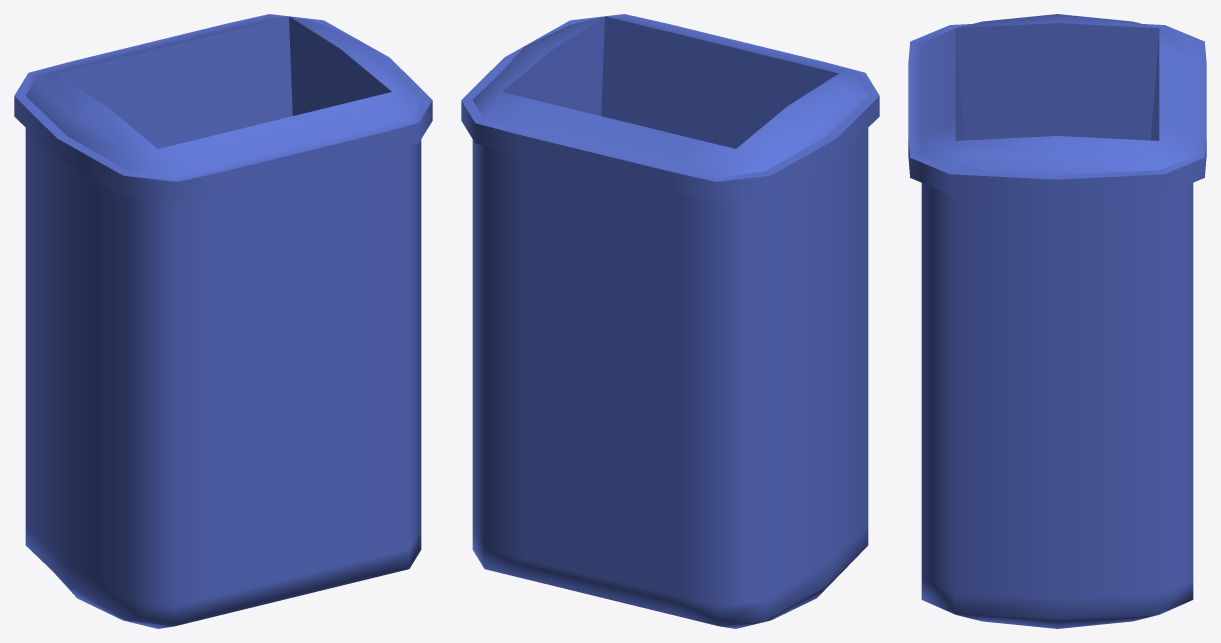
File: TrashCanModel.fbx
3 views of the same model, side by side, from view 1: azimuth 30°, elevation 25°; view 2: azimuth 150°, elevation 25°; view 3: azimuth 270°, elevation 25° (orthographic).
Parts seen in each view (by area): view 1: pCube1; view 2: pCube1; view 3: pCube1.
Boxes of the visible parts, <box> form: pCube1: <box>14,14,432,628</box>; pCube1: <box>461,14,879,628</box>; pCube1: <box>908,14,1206,628</box>.
Bounding box in the file's own units: 1.64 × 2.31 × 1.29.
